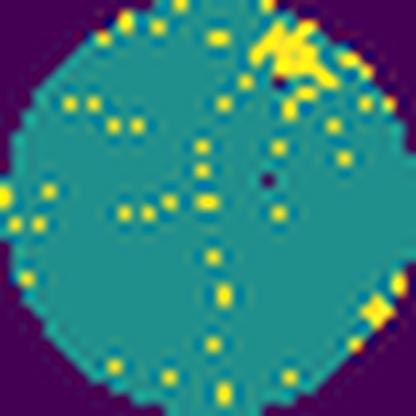Loc: (243, 23, 342, 88)
